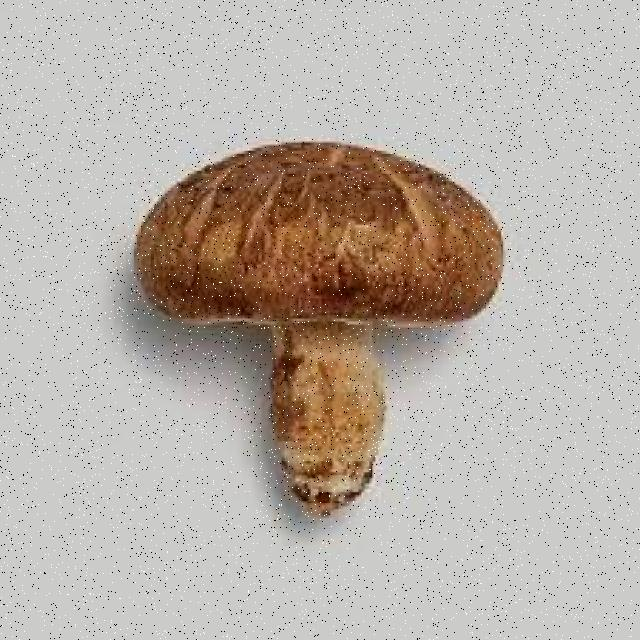Mushroom: (74, 98, 551, 557)
